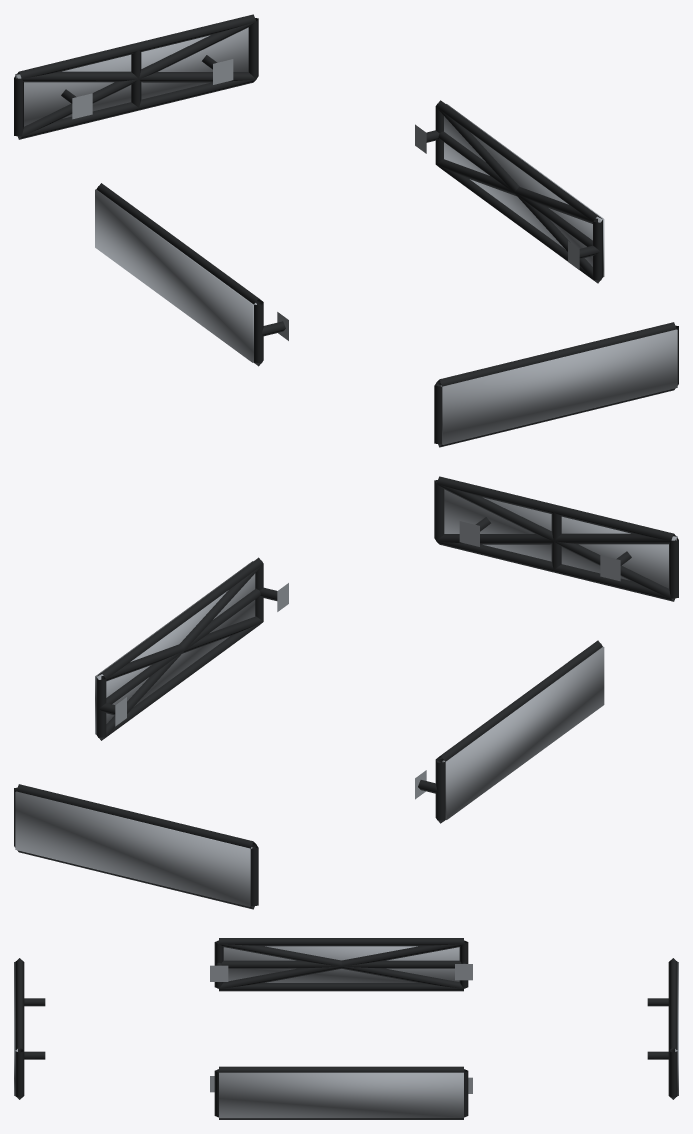
Rendered from kanaya_bago_protecao.glb.
The picture shows the model from 3 angles, top to bottom: view 1: azimuth 30°, elevation 25°; view 2: azimuth 150°, elevation 25°; view 3: azimuth 270°, elevation 25°; orthographic projection. The views are drawn at different scales.
Visible parts, largest first — view 1: Protection_front_Level3_Details, Protection_left_Level3_Details, Protection_rear_Level1_Details, Protection_rear_Level3_Details, Protection_right_Level1_Details, Protection_rear_Level2_Details, Protection_right_Level2_Details, Protection_right_Level3_Details, Protection_front_Level1_Details, Protection_left_Level1_Details; view 2: Protection_rear_Level3_Details, Protection_left_Level3_Details, Protection_front_Level1_Details, Protection_front_Level3_Details, Protection_right_Level1_Details, Protection_front_Level2_Details, Protection_right_Level2_Details, Protection_right_Level3_Details, Protection_rear_Level1_Details, Protection_left_Level1_Details; view 3: Protection_right_Level3_Details, Protection_left_Level2_Details, Protection_left_Level1_Details, Protection_left_Level3_Details, Protection_right_Level1_Details, Protection_rear_Level1_Details, Protection_front_Level1_Details.
Part boxes in pixels (bbox=[...]): Protection_front_Level3_Details: bbox=[440, 329, 677, 444]; Protection_left_Level3_Details: bbox=[95, 189, 256, 362]; Protection_rear_Level1_Details: bbox=[14, 14, 258, 139]; Protection_rear_Level3_Details: bbox=[15, 27, 248, 126]; Protection_right_Level1_Details: bbox=[415, 100, 602, 283]; Protection_rear_Level2_Details: bbox=[16, 22, 255, 138]; Protection_right_Level2_Details: bbox=[436, 107, 601, 282]; Protection_right_Level3_Details: bbox=[444, 104, 604, 277]; Protection_front_Level1_Details: bbox=[434, 322, 678, 447]; Protection_left_Level1_Details: bbox=[96, 183, 288, 366]; Protection_rear_Level3_Details: bbox=[15, 791, 252, 906]; Protection_left_Level3_Details: bbox=[442, 646, 604, 819]; Protection_front_Level1_Details: bbox=[434, 476, 678, 601]; Protection_front_Level3_Details: bbox=[444, 489, 677, 588]; Protection_right_Level1_Details: bbox=[96, 557, 288, 740]; Protection_front_Level2_Details: bbox=[437, 484, 676, 600]; Protection_right_Level2_Details: bbox=[97, 564, 263, 739]; Protection_right_Level3_Details: bbox=[95, 561, 255, 734]; Protection_rear_Level1_Details: bbox=[14, 784, 258, 909]; Protection_left_Level1_Details: bbox=[415, 640, 602, 823]; Protection_right_Level3_Details: bbox=[219, 1072, 463, 1118]; Protection_left_Level2_Details: bbox=[218, 942, 464, 988]; Protection_left_Level1_Details: bbox=[210, 938, 472, 991]; Protection_left_Level3_Details: bbox=[223, 946, 459, 982]; Protection_right_Level1_Details: bbox=[210, 1066, 472, 1119]; Protection_rear_Level1_Details: bbox=[647, 958, 677, 1099]; Protection_front_Level1_Details: bbox=[15, 958, 45, 1099].
Bounding box in the file's own units: 1.91 × 0.354 × 4.02.
1 material, 1 textured.
